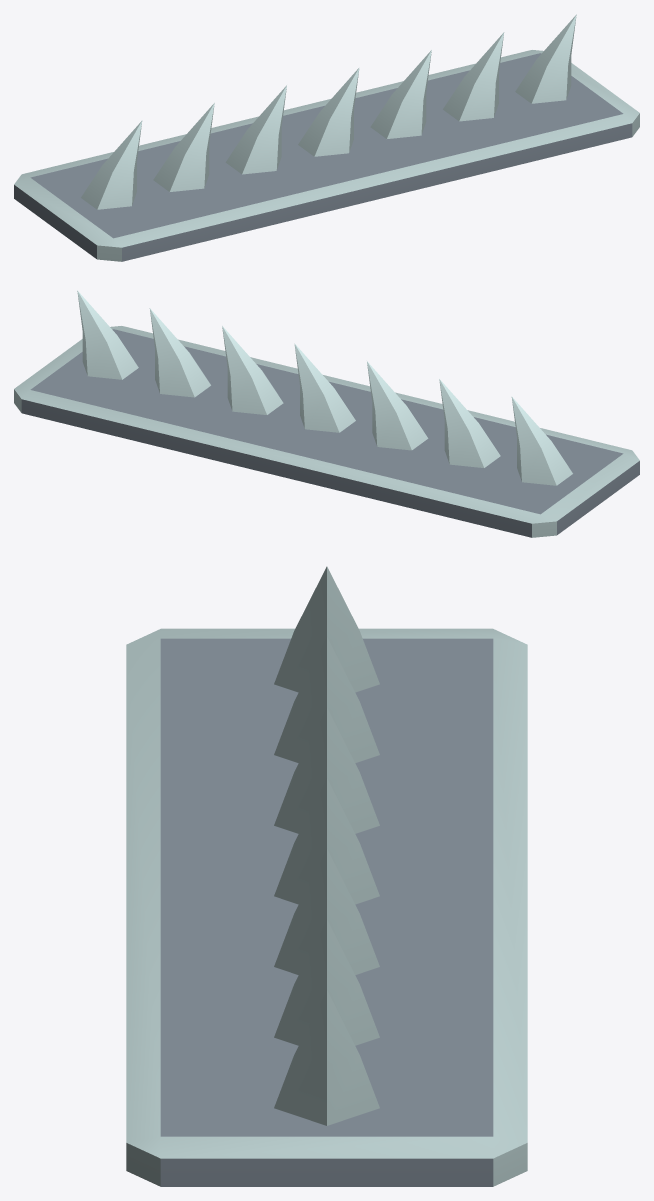
Rendered from lantern_eel_teeth.glb.
3 renders of one model, top to bottom at view 1: azimuth 30°, elevation 25°; view 2: azimuth 150°, elevation 25°; view 3: azimuth 270°, elevation 25°, orthographic. The views are drawn at different scales.
Parts seen in each view (by area): view 1: lantern_eel_teeth; view 2: lantern_eel_teeth; view 3: lantern_eel_teeth.
Part boxes in pixels (x1,y1,x2,y2): lantern_eel_teeth: (14,14,639,261); lantern_eel_teeth: (14,290,639,537); lantern_eel_teeth: (126,566,527,1186).
Bounding box in the file's own units: 0.025 × 0.004 × 0.008.
